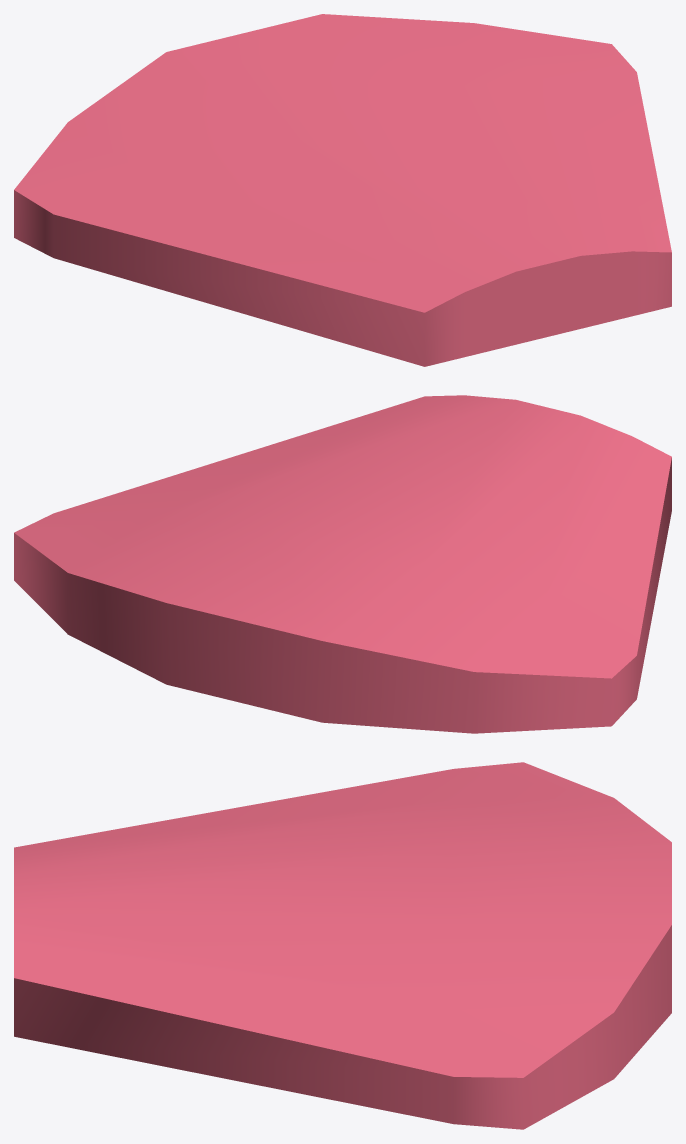
Rendered from concha01.fbx.
The picture shows the model from 3 angles, top to bottom: view 1: azimuth 30°, elevation 25°; view 2: azimuth 150°, elevation 25°; view 3: azimuth 270°, elevation 25°; orthographic projection. The views are drawn at different scales.
Visible parts, largest first — view 1: concha01; view 2: concha01; view 3: concha01.
Part boxes in pixels (x1,y1,x2,y2): concha01: [14, 14, 671, 366]; concha01: [14, 395, 671, 733]; concha01: [14, 762, 671, 1129].
Bounding box in the file's own units: 10.26 × 1.34 × 9.04.
